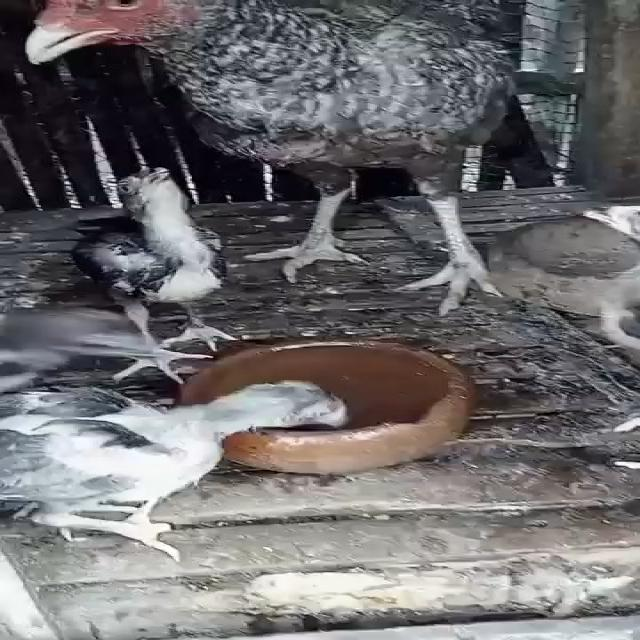drinking: (0, 350, 373, 546)
